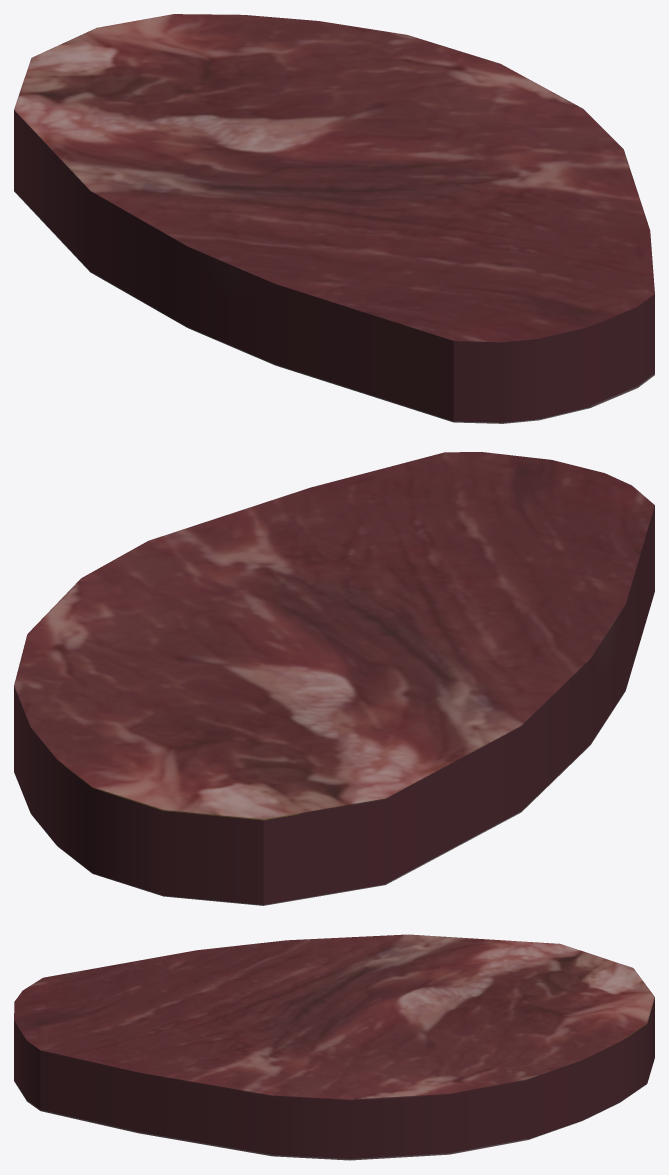
The model's file is steak_raw.fbx.
3 views of the same model, one above another, from view 1: azimuth 30°, elevation 25°; view 2: azimuth 150°, elevation 25°; view 3: azimuth 270°, elevation 25° (orthographic). The views are drawn at different scales.
Parts seen in each view (by area): view 1: Plane.003; view 2: Plane.003; view 3: Plane.003.
Boxes of the visible parts, bbox=[...] form: Plane.003: bbox=[14, 14, 654, 423]; Plane.003: bbox=[14, 452, 654, 905]; Plane.003: bbox=[14, 934, 654, 1160].
Bounding box in the file's own units: 29.61 × 5.08 × 48.55.
